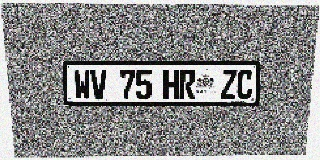5: (136, 70, 152, 100)
7: (119, 70, 136, 100)
C: (236, 70, 253, 99)
H: (163, 70, 179, 99)
R: (179, 70, 196, 99)
V: (90, 70, 107, 100)
W: (73, 70, 91, 100)
Z: (220, 70, 237, 99)
